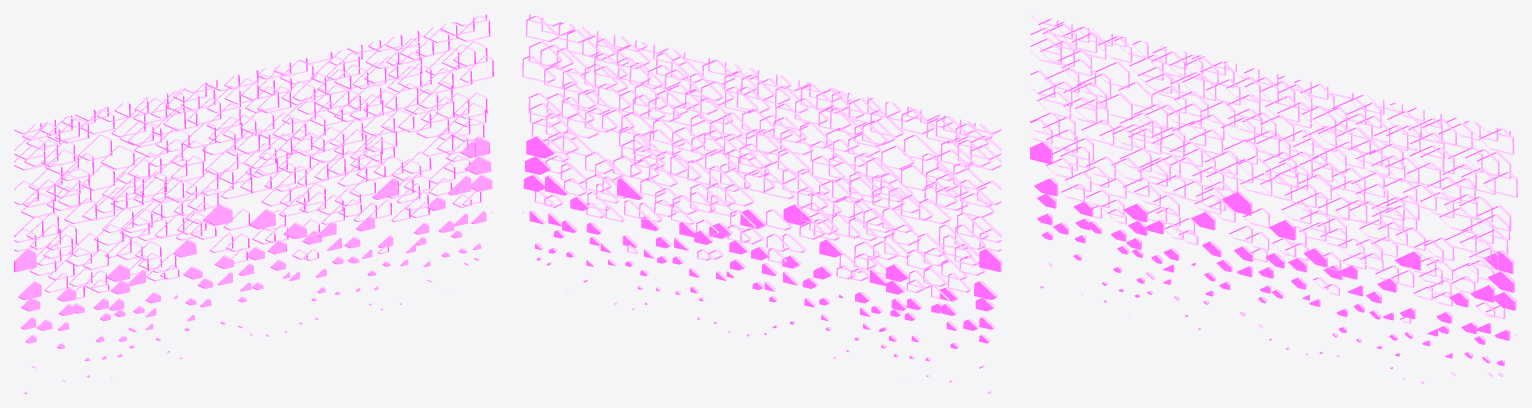
File: Wall decoration neon 3.glb
3 renders of one model, left to right at view 1: azimuth 30°, elevation 25°; view 2: azimuth 150°, elevation 25°; view 3: azimuth 330°, elevation 25°, orthographic.
Visible parts, largest first — view 1: Decoration right leds; view 2: Decoration right leds; view 3: Decoration right leds.
Part boxes in pixels (box(x1,y1,x2,y2)): Decoration right leds: box(14, 14, 493, 393); Decoration right leds: box(522, 14, 1001, 393); Decoration right leds: box(1030, 14, 1517, 383).
Size of the model in its own units: 8.66 by 4.7 by 0.0458.
